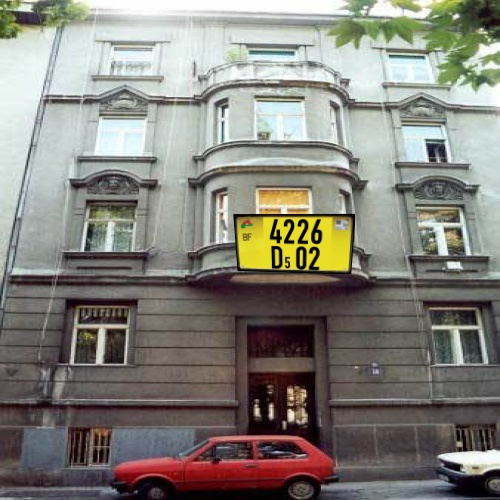plate: (230, 207, 368, 285)
